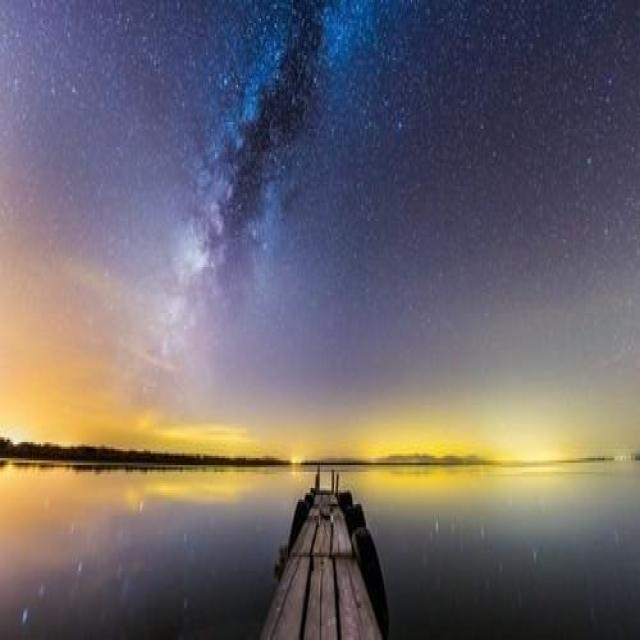other: (3, 398, 245, 506), (362, 424, 608, 474)
